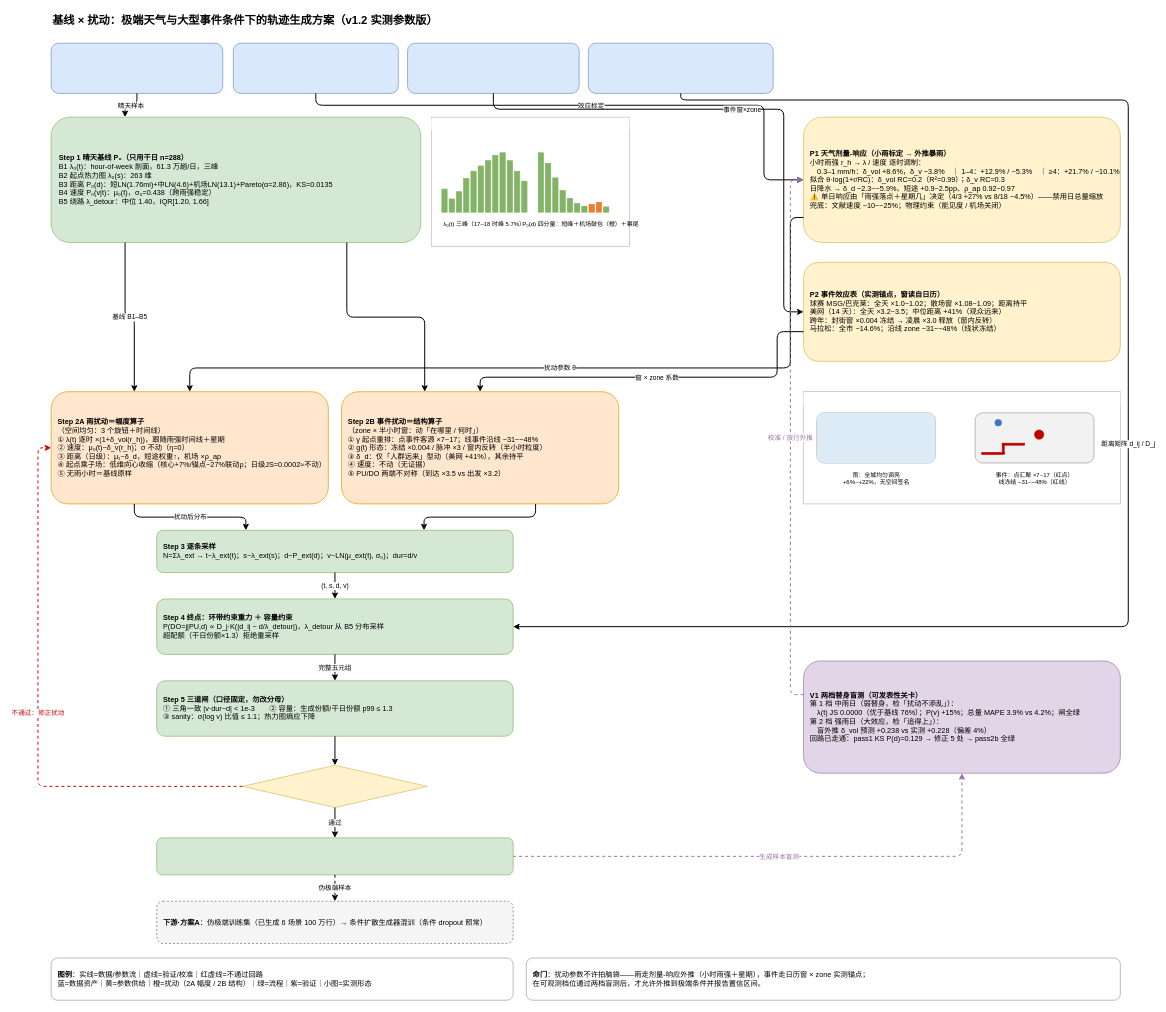
Image size: 1166x1012. Some labels were removed from this diagram. Here are the shapes that lost their labels. From the top down, the centre of each, then its label:
(136,68): 晴天行程数据（TLC HV FHV） 2024+2025 两暖季 · 清洗后 2.61 亿行 时刻 / 起点 / 终点 / 里程 / 时长
(315,68): 天气（NOAA + GHCN） ISD 逐小时 FM-15 去重（⚠️FM-16 重复累加坑） 小时雨强时间线 + 日总量（GHCN 补缺）
(493,68): 事件日历 events_calendar 592 条：场馆 zone + 到场/散场窗 点状 / 路线 / 区域 / 全城 … 六型
(680,68): zone 档案 263 区质心 + 距离矩阵（shapefile） POI 简历 → γ 重排权重、D_j
(530,124): 基线形态速览（实测）
(961,399): 冲击指纹：先对号入座，再选扰动
(334,786): 校验通过？
(334,856): 输出：条件轨迹集 {(t, 起点, d, v, 终点)} 暴雨 / 暴雪 / 大型事件场景，附外推置信区间
